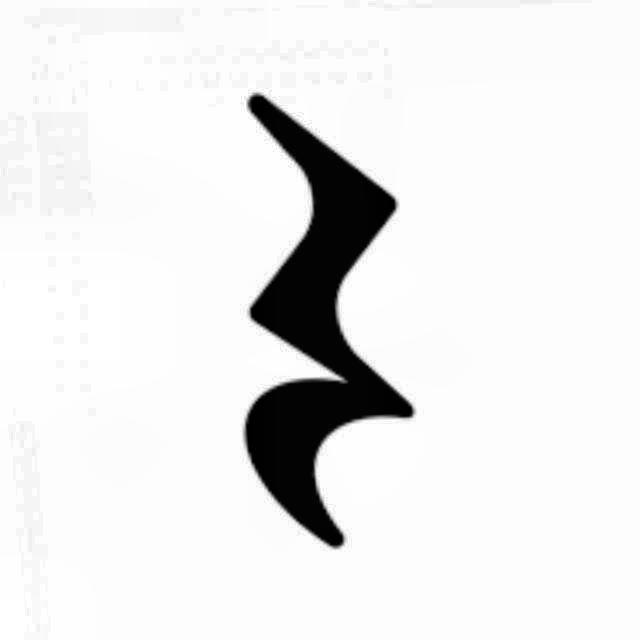Quarter-rest: (199, 76, 465, 564)
